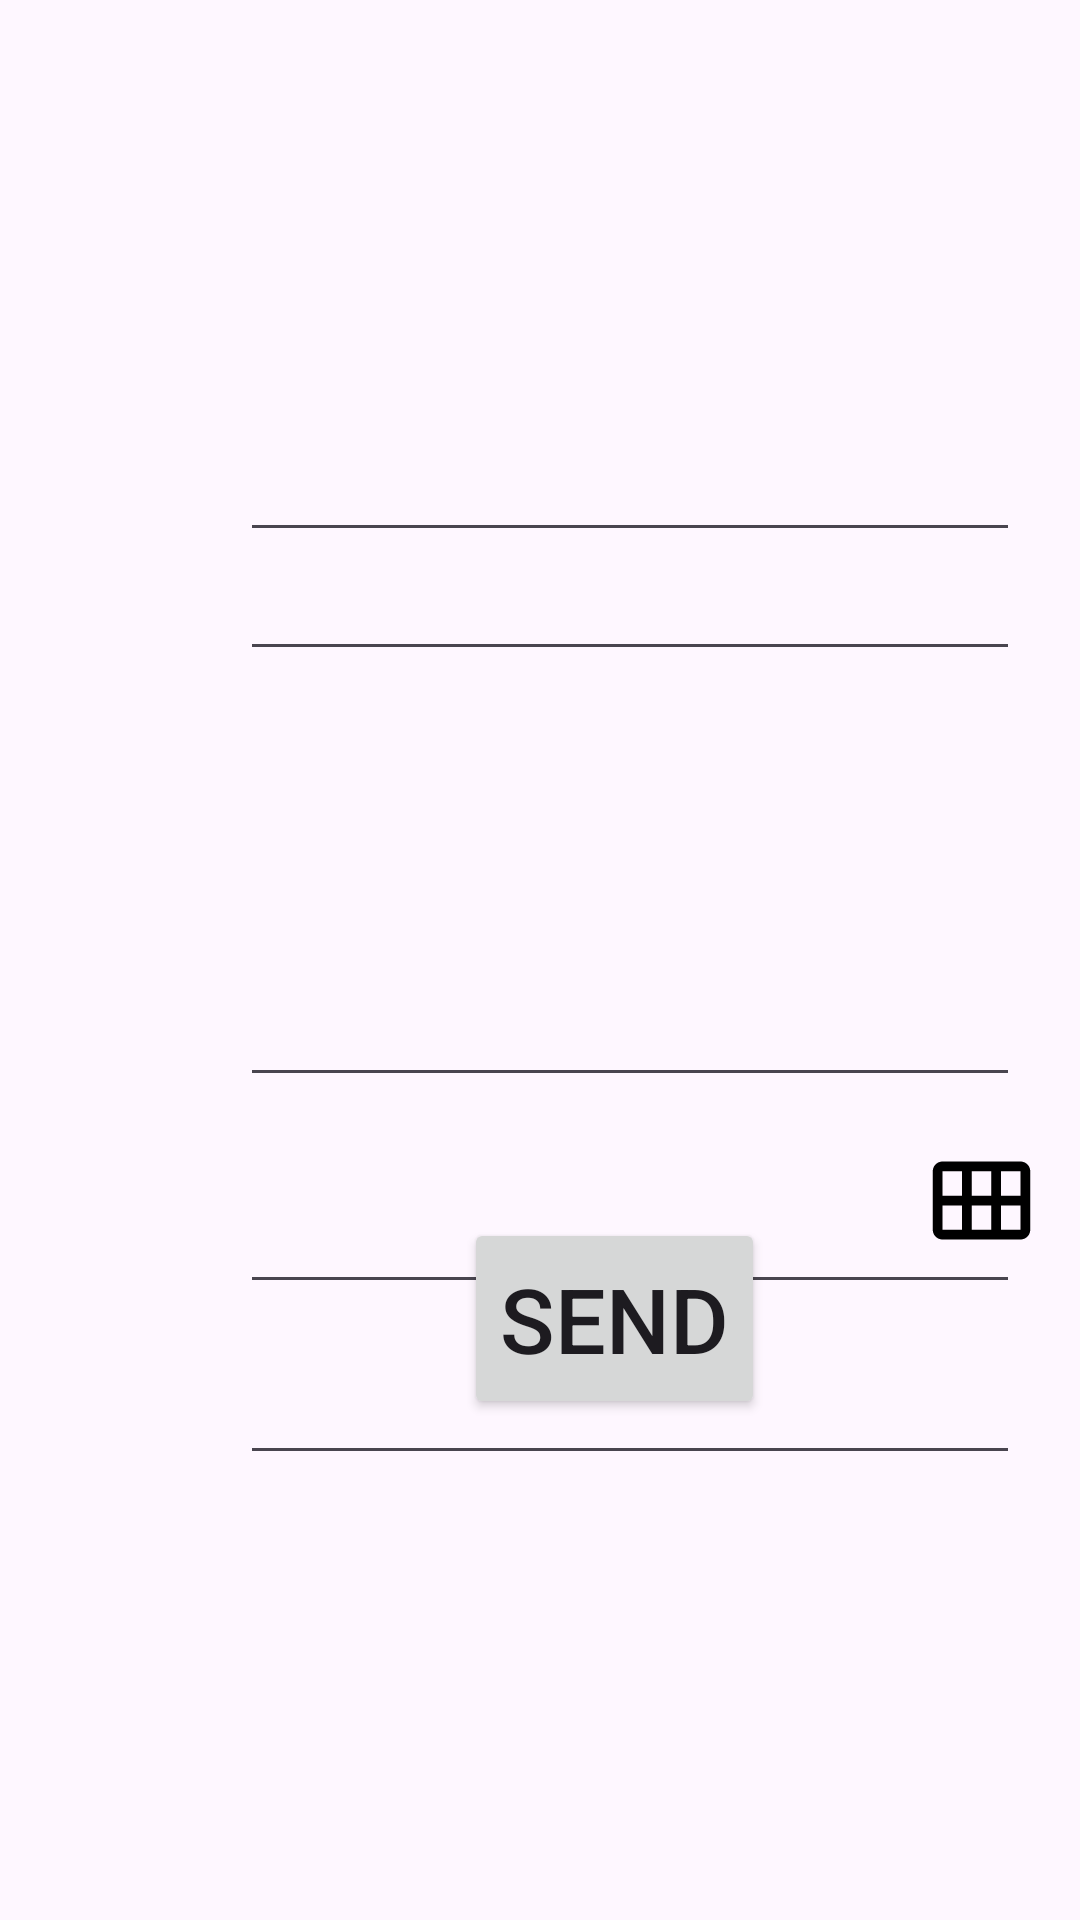

Locate icon controls on the screen. Image size 1080 × 1920, boxes as Rect(x1, y1, x2, y2).
calendar view month: Rect(932, 1161, 1031, 1240)
